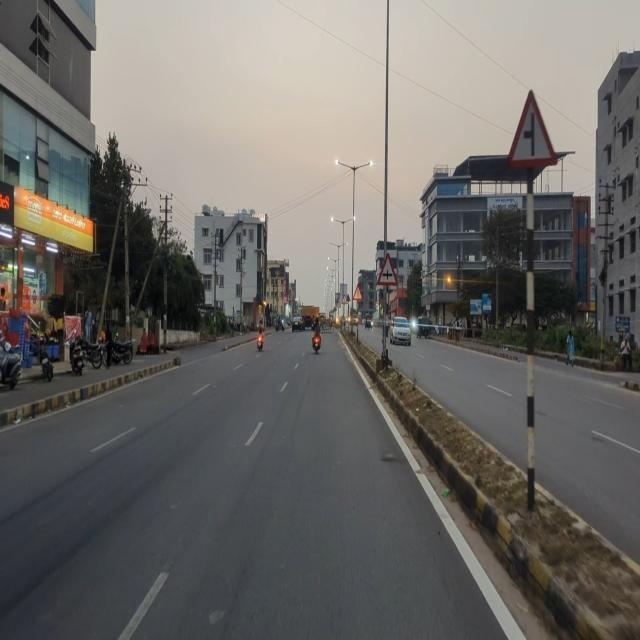bien_nguy_hiem: (504, 82, 559, 170), (376, 250, 398, 288), (353, 283, 363, 301), (342, 294, 348, 304)
